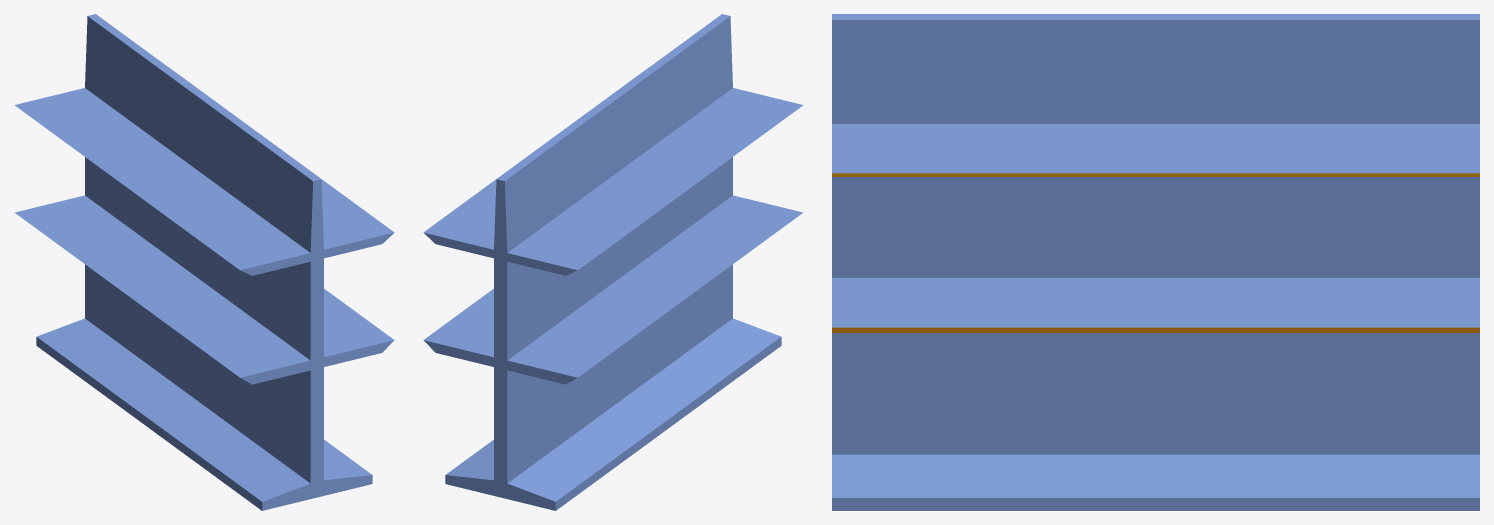
Rendered from shopShelf1.fbx.
3 views of the same model, side by side, from view 1: azimuth 30°, elevation 25°; view 2: azimuth 150°, elevation 25°; view 3: azimuth 270°, elevation 25° (orthographic). The views are drawn at different scales.
Parts seen in each view (by area): view 1: shelf.001; view 2: shelf.001; view 3: shelf.001.
Part boxes in pixels (<box>): shelf.001: <box>14,14,394,510</box>; shelf.001: <box>423,14,803,510</box>; shelf.001: <box>832,14,1479,510</box>.
Bounding box in the file's own units: 0.272 × 0.5331 × 0.6873.
